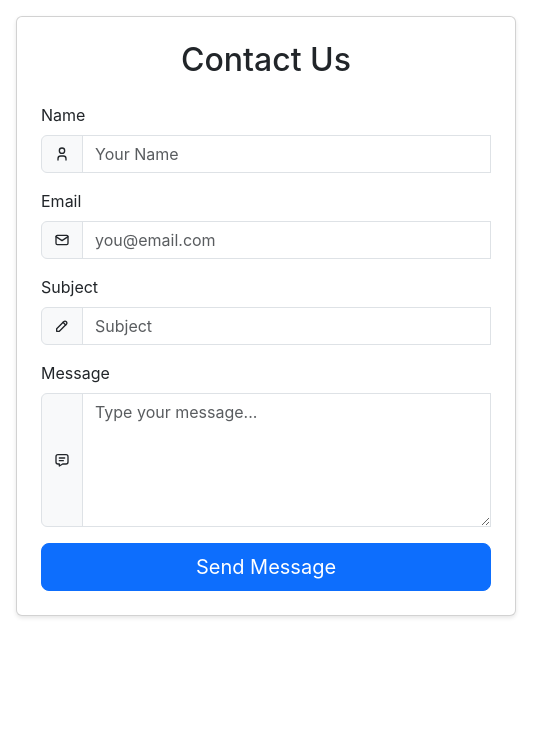
it: Contact Page › shows error if required fields are empty
This screenshot has width=533, height=735.
Click the button "Send Message": (266, 567) [41,543,491,591]
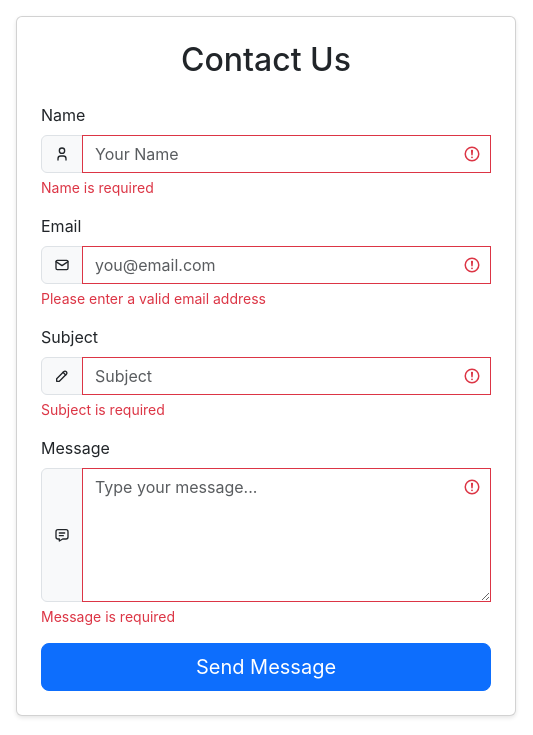
expect the text "Name is required" is shown: met, box [41,179,154,196]
expect the text "Please enter a valid email address" is shown: met, box [41,290,266,307]
expect the text "Subject is required" is shown: met, box [41,401,165,418]
